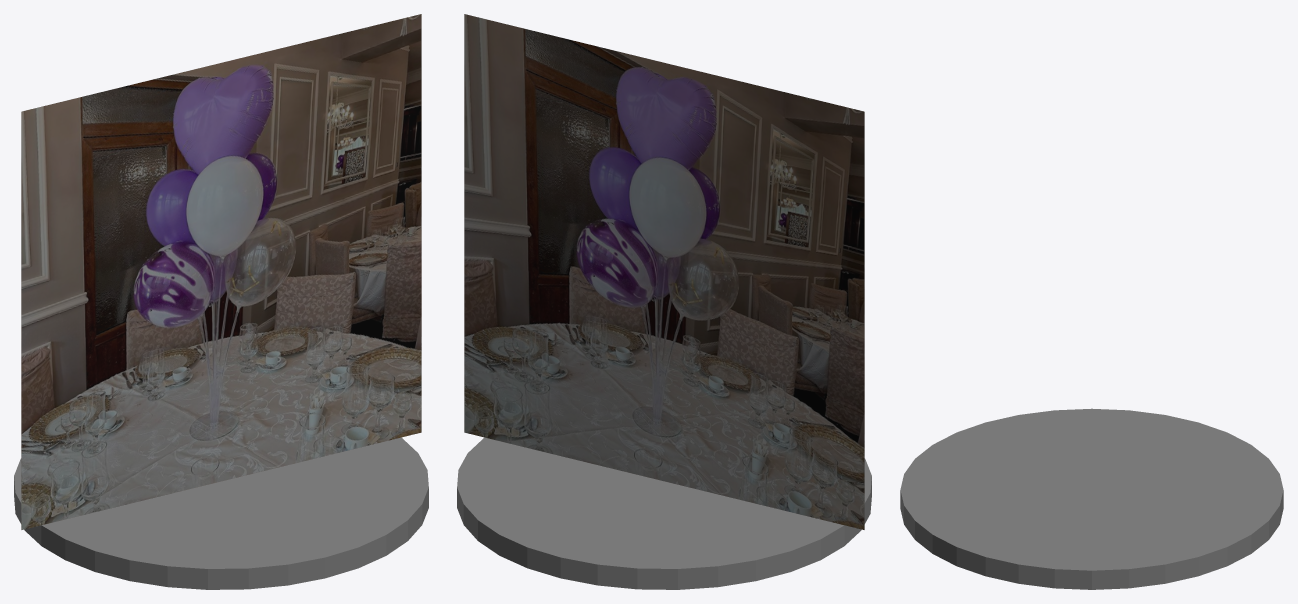
Rendered from B0FQCHVSND.glb.
3 views of the same model, side by side, from view 1: azimuth 30°, elevation 25°; view 2: azimuth 150°, elevation 25°; view 3: azimuth 270°, elevation 25° (orthographic). The views are drawn at different scales.
Visible parts, largest first — view 1: photo, base; view 2: photo, base; view 3: base.
Boxes of the visible parts, x1=… form: photo: x1=21, y1=14, x2=421, y2=529; base: x1=14, y1=437, x2=428, y2=589; photo: x1=464, y1=14, x2=864, y2=529; base: x1=457, y1=437, x2=871, y2=589; base: x1=900, y1=408, x2=1283, y2=589.
Bounding box in the file's own units: 0.4 × 0.42 × 0.36.
Materials: 1 (1 with a texture image).
